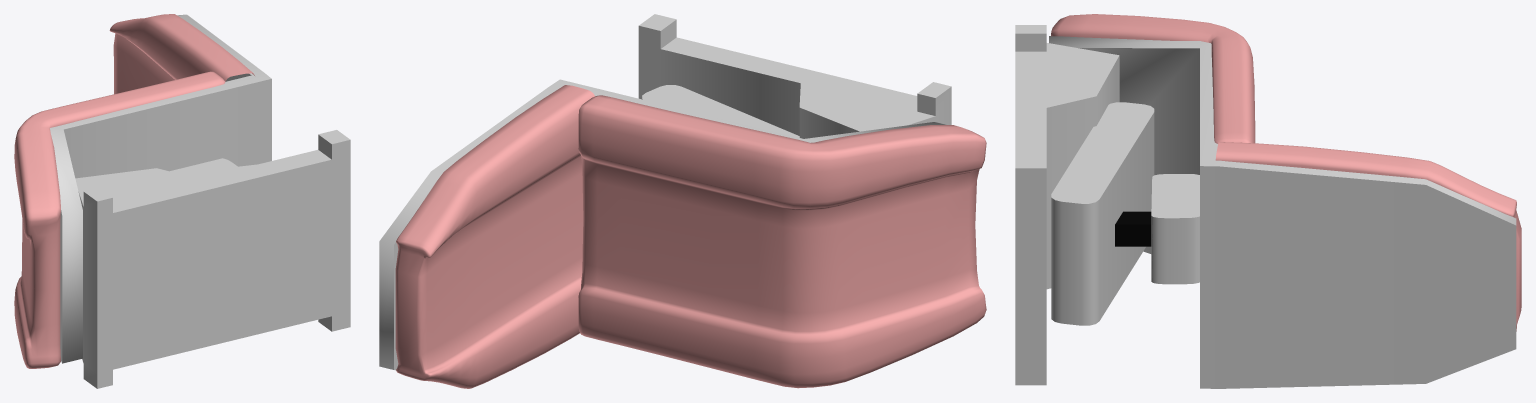
3 views of the same model, side by side, from view 1: azimuth 30°, elevation 25°; view 2: azimuth 150°, elevation 25°; view 3: azimuth 270°, elevation 25° (orthographic). The views are drawn at different scales.
Visible parts, largest first — view 1: Cube.002; view 2: Cube.002; view 3: Cube.002.
Boxes of the visible parts, x1=… form: Cube.002: x1=14, y1=14, x2=350, y2=388; Cube.002: x1=379, y1=14, x2=986, y2=388; Cube.002: x1=1015, y1=14, x2=1521, y2=388.
Size of the model in its own units: 133 by 79.91 by 156.
